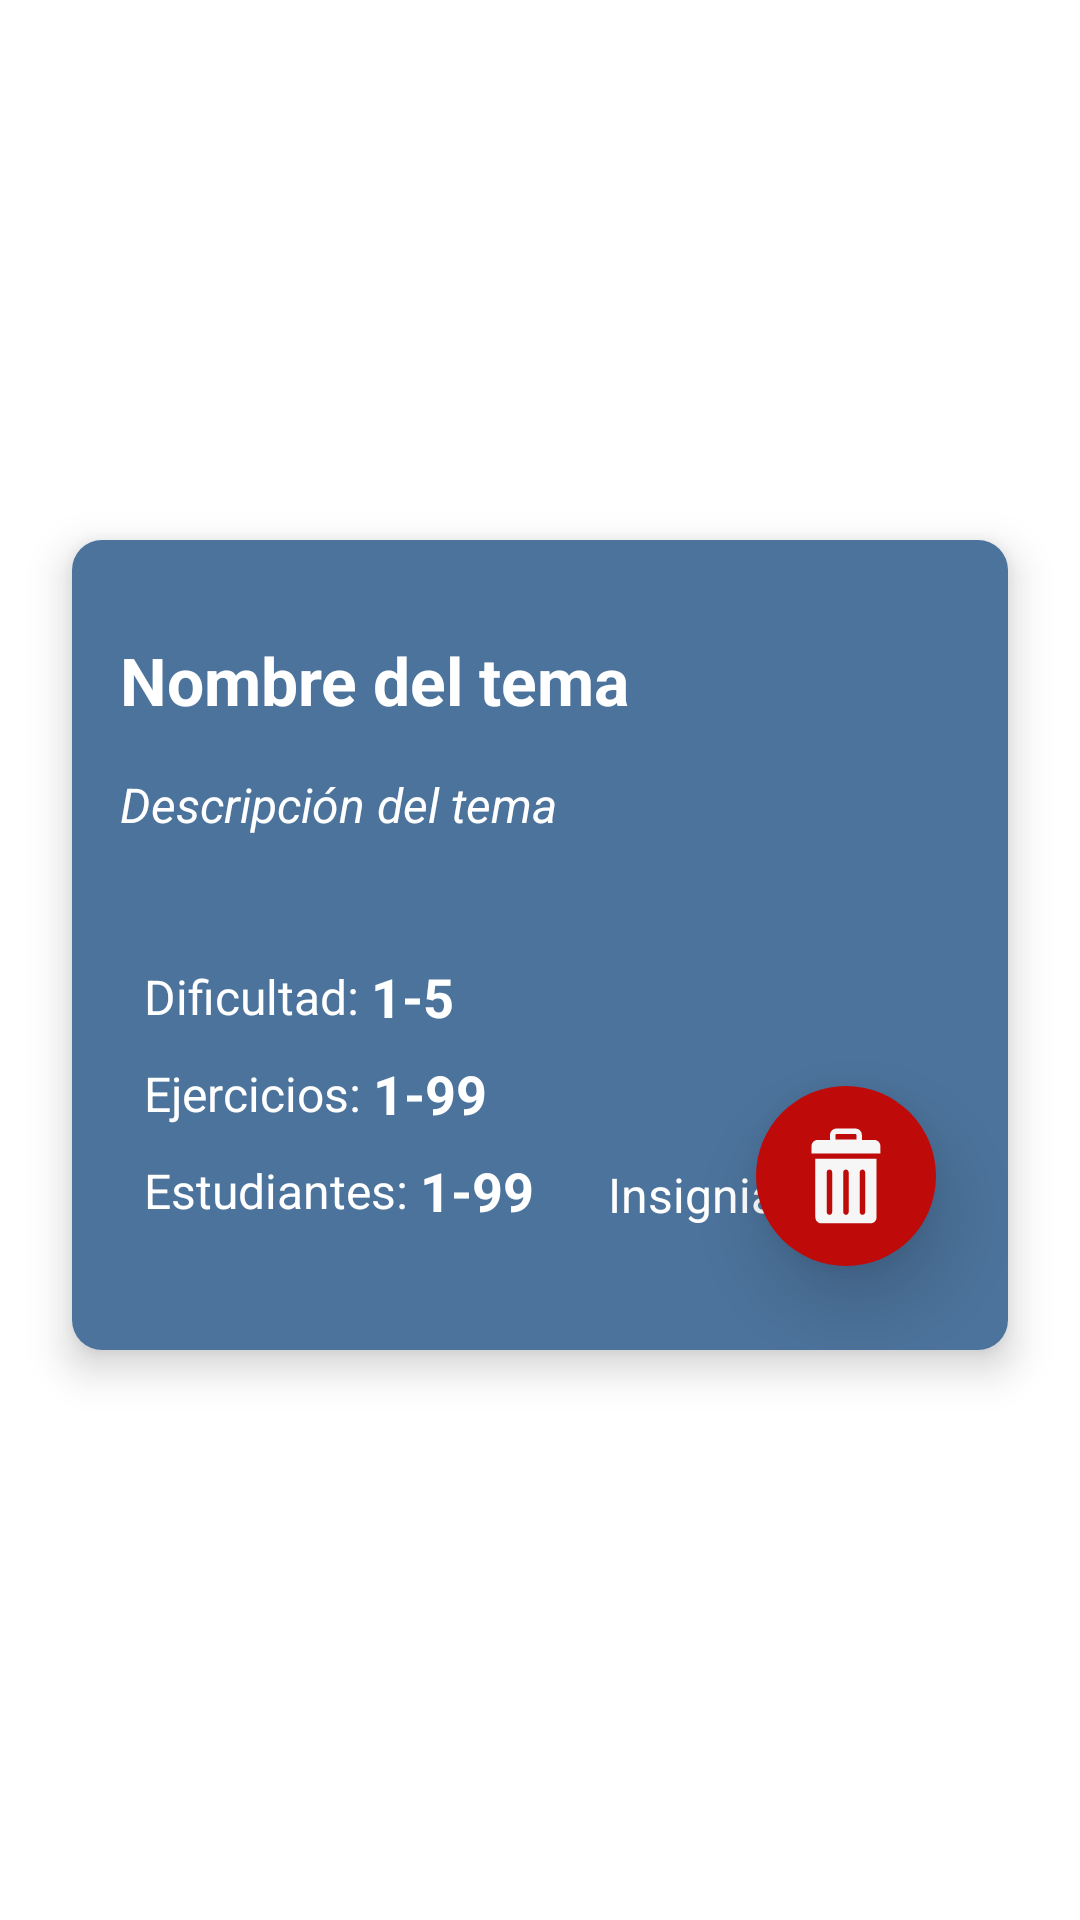

Point at icon controls on the screen. Image size 1080px x 1920px, points as point (x, y).
Delete button: point (846, 1176)
